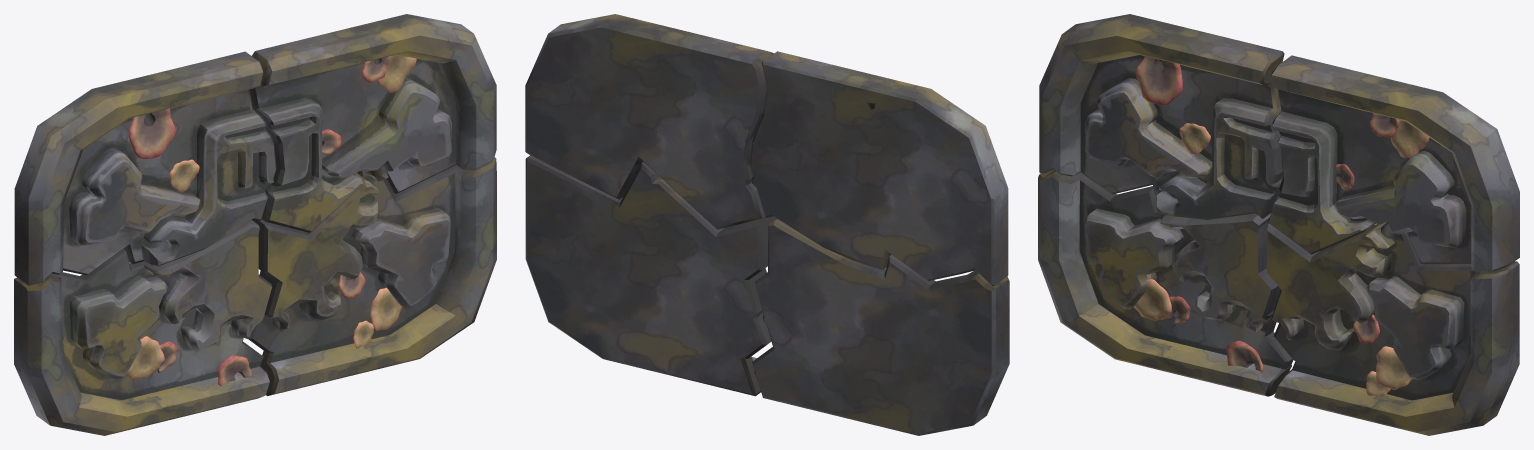
File: puzzel.glb
The picture shows the model from 3 angles, left to right: view 1: azimuth 30°, elevation 25°; view 2: azimuth 150°, elevation 25°; view 3: azimuth 330°, elevation 25°; orthographic projection.
Visible parts, largest first — view 1: Pirate_Puzzle_Piece_1, Pirate_Puzzle_Piece_4, Pirate_Puzzle_Piece_3, Pirate_Puzzle_Piece_2; view 2: Pirate_Puzzle_Piece_1, Pirate_Puzzle_Piece_4, Pirate_Puzzle_Piece_3, Pirate_Puzzle_Piece_2; view 3: Pirate_Puzzle_Piece_4, Pirate_Puzzle_Piece_1, Pirate_Puzzle_Piece_2, Pirate_Puzzle_Piece_3.
Boxes of the visible parts, x1=… form: Pirate_Puzzle_Piece_1: x1=14, y1=51, x2=276, y2=285; Pirate_Puzzle_Piece_4: x1=248, y1=157, x2=496, y2=396; Pirate_Puzzle_Piece_3: x1=14, y1=220, x2=271, y2=435; Pirate_Puzzle_Piece_2: x1=249, y1=14, x2=496, y2=232; Pirate_Puzzle_Piece_1: x1=750, y1=51, x2=1008, y2=285; Pirate_Puzzle_Piece_4: x1=525, y1=155, x2=774, y2=396; Pirate_Puzzle_Piece_3: x1=752, y1=217, x2=1009, y2=435; Pirate_Puzzle_Piece_2: x1=525, y1=14, x2=774, y2=229; Pirate_Puzzle_Piece_4: x1=1266, y1=221, x2=1519, y2=435; Pirate_Puzzle_Piece_1: x1=1039, y1=14, x2=1284, y2=219; Pirate_Puzzle_Piece_2: x1=1268, y1=55, x2=1519, y2=272; Pirate_Puzzle_Piece_3: x1=1038, y1=169, x2=1293, y2=396.
Size of the model in its own units: 6.1 by 4.18 by 0.5042.
Materials: 1 (1 with a texture image).
